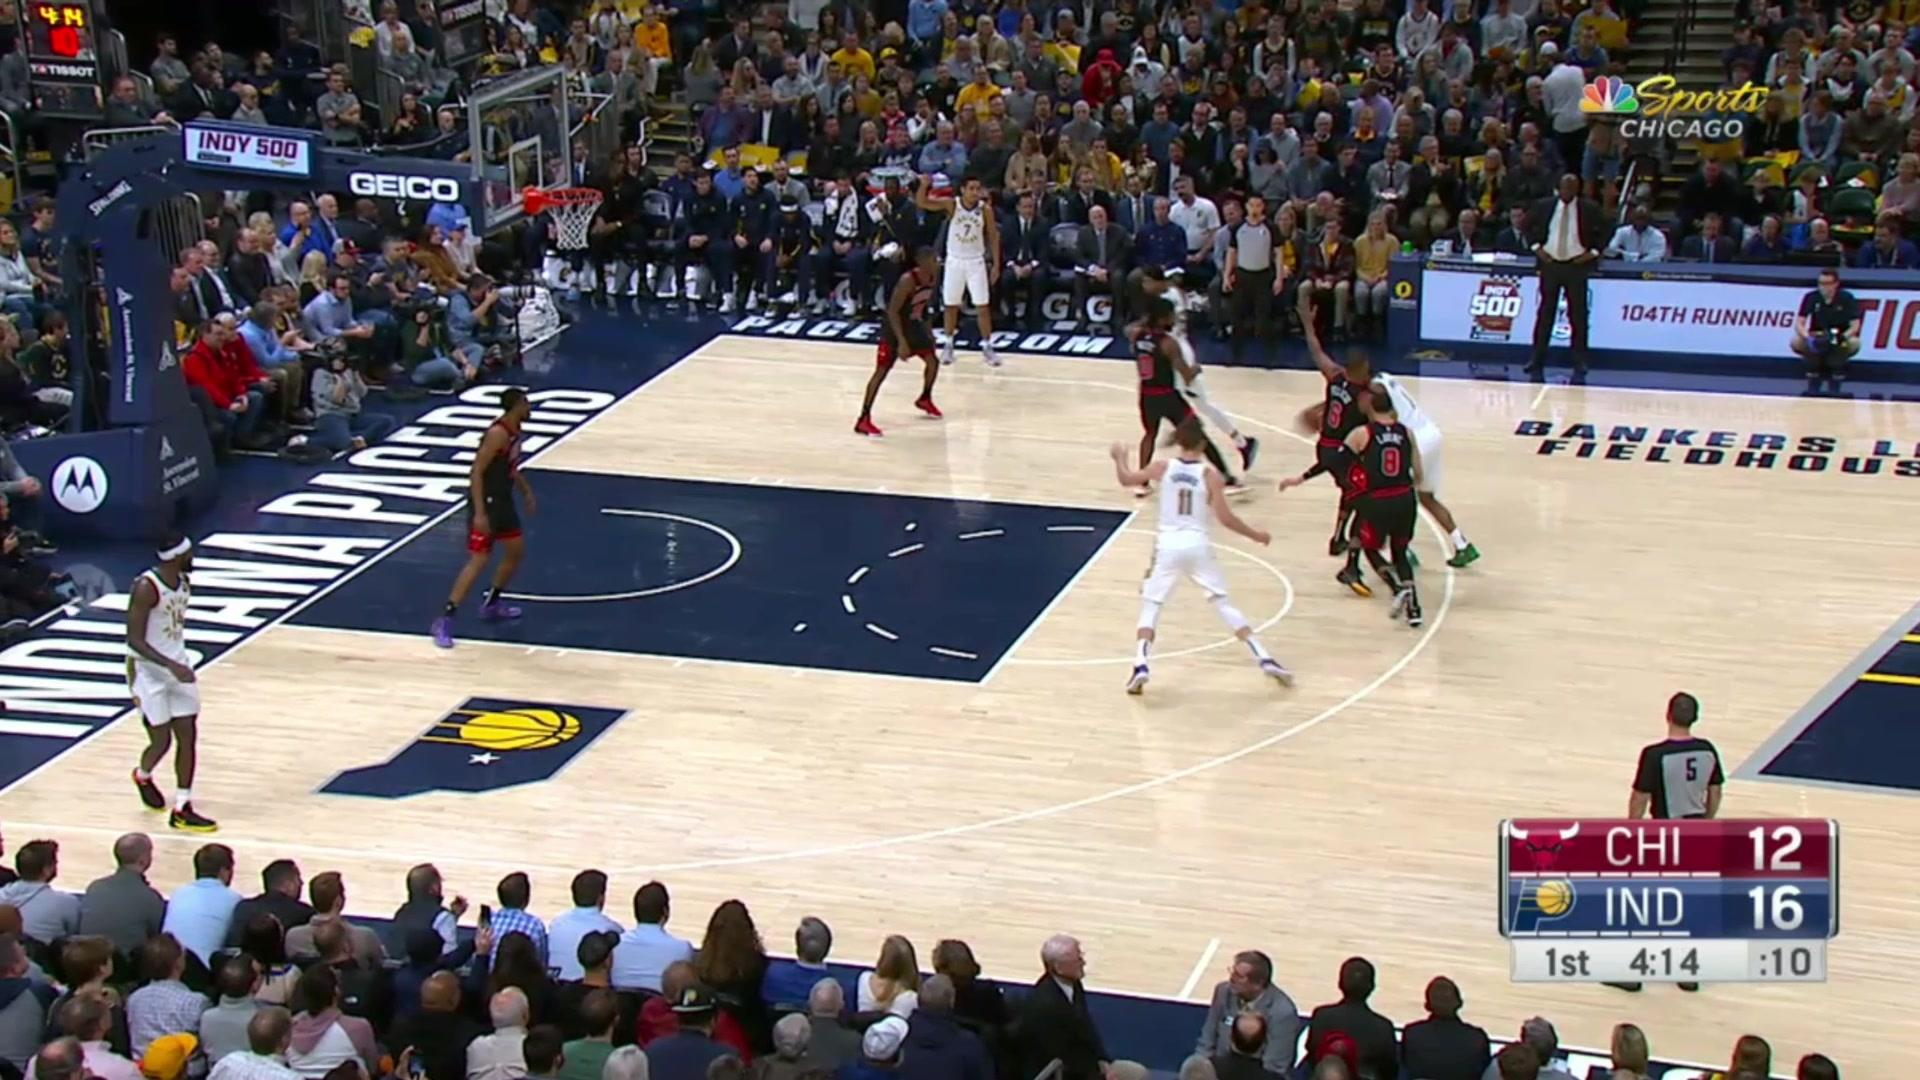no_foul: (1291, 328, 1452, 560)
